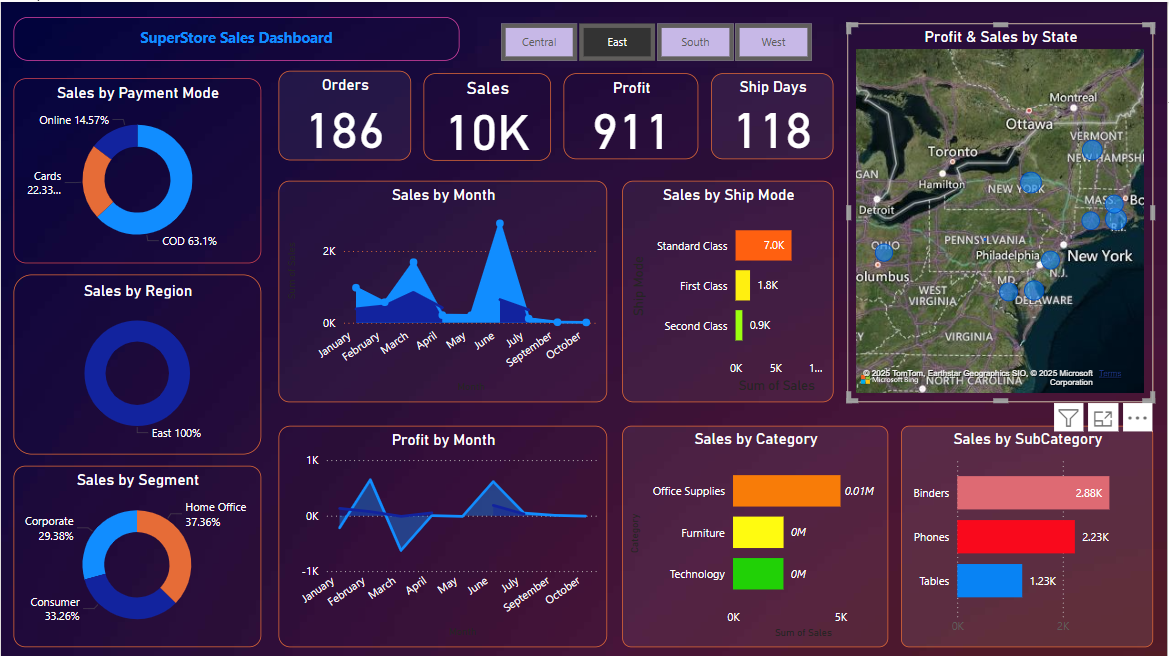

This screenshot's page, from the dashboard's own definition file:
{"tool":"powerbi","page":{"name":"Page 1","canvas":[1280,720],"ordinal":0},"visuals":[{"type":"textbox","box":[13.7,16.5,489.9,48],"z":0},{"type":"donutChart","title":"Sales by Payment Mode","fields":{"Category":["SuperStore_Sales_Dataset.Payment Mode"],"Y":["Sum(SuperStore_Sales_Dataset.Sales)"]},"box":[13.7,83.7,271.7,203.1],"z":1000},{"type":"donutChart","title":"Sales by Region","fields":{"Category":["SuperStore_Sales_Dataset.Region"],"Y":["Sum(SuperStore_Sales_Dataset.Sales)"]},"box":[13.7,299.1,271.7,197.6],"z":2000},{"type":"donutChart","title":"Sales by Segment","fields":{"Category":["SuperStore_Sales_Dataset.Segment"],"Y":["Sum(SuperStore_Sales_Dataset.Sales)"]},"box":[13.7,509.1,271.7,199],"z":3000},{"type":"card","title":"Sales","fields":{"Values":["Sum(SuperStore_Sales_Dataset.Sales)"]},"box":[463.8,78.2,140,96.1],"z":4000},{"type":"card","title":"Profit","fields":{"Values":["Sum(SuperStore_Sales_Dataset.Profit)"]},"box":[617.5,78.2,148.2,94.7],"z":5000},{"type":"lineChart","title":"Sales by Month","fields":{"Category":["SuperStore_Sales_Dataset.Order Date.Variation.Date Hierarchy.Month"],"Y":["Sum(SuperStore_Sales_Dataset.Sales)"],"Series":["SuperStore_Sales_Dataset.Order Date.Variation.Date Hierarchy.Year"]},"box":[304.6,196.2,360.9,242.9],"z":6000},{"type":"lineChart","title":"Profit by Month","fields":{"Category":["SuperStore_Sales_Dataset.Order Date.Variation.Date Hierarchy.Month"],"Y":["Sum(SuperStore_Sales_Dataset.Profit)"],"Series":["SuperStore_Sales_Dataset.Order Date.Variation.Date Hierarchy.Year"]},"box":[304.6,465.2,360.9,242.9],"z":7000},{"type":"clusteredBarChart","title":"Sales by Category","fields":{"Category":["SuperStore_Sales_Dataset.Category"],"Y":["Sum(SuperStore_Sales_Dataset.Sales)"]},"box":[682,465.2,292.3,242.9],"z":8000},{"type":"clusteredBarChart","title":"Sales by Ship Mode","fields":{"Category":["SuperStore_Sales_Dataset.Ship Mode"],"Y":["Sum(SuperStore_Sales_Dataset.Sales)"]},"box":[682,196.2,231.9,242.9],"z":9000},{"type":"clusteredBarChart","title":"Sales by SubCategory","fields":{"Category":["SuperStore_Sales_Dataset.Sub-Category"],"Y":["Sum(SuperStore_Sales_Dataset.Sales)"]},"box":[988,465.2,277.2,242.9],"z":10000},{"type":"slicer","fields":{"Values":["SuperStore_Sales_Dataset.Region"]},"box":[522.8,16.5,391.1,54.9],"z":11000},{"type":"card","title":"Ship Days","fields":{"Values":["Avg(SuperStore_Sales_Dataset.AverageDelivery)"]},"box":[779.4,78.2,134.5,94.7],"z":12000},{"type":"card","title":"Orders","fields":{"Values":["Sum(SuperStore_Sales_Dataset.Quantity)"]},"box":[304.6,75.5,145.5,98.8],"z":13000},{"type":"map","title":"Profit & Sales by State","fields":{"Category":["SuperStore_Sales_Dataset.State"],"Size":["Sum(SuperStore_Sales_Dataset.Profit)"]},"box":[929,23.3,336.2,415.8],"z":13001}]}

Visuals, with their boxes in screenshot pixels (x1, y1, x2, y2), scaled from the page's 1280x720 canvas onto the 1169x656 screenshot:
textbox: rect(13, 15, 460, 59)
"Sales by Payment Mode" donutChart: rect(13, 76, 261, 261)
"Sales by Region" donutChart: rect(13, 273, 261, 453)
"Sales by Segment" donutChart: rect(13, 464, 261, 645)
"Sales" card: rect(424, 71, 551, 159)
"Profit" card: rect(564, 71, 699, 158)
"Sales by Month" lineChart: rect(278, 179, 608, 400)
"Profit by Month" lineChart: rect(278, 424, 608, 645)
"Sales by Category" clusteredBarChart: rect(623, 424, 890, 645)
"Sales by Ship Mode" clusteredBarChart: rect(623, 179, 835, 400)
"Sales by SubCategory" clusteredBarChart: rect(902, 424, 1155, 645)
slicer - SuperStore_Sales_Dataset.Region: rect(477, 15, 835, 65)
"Ship Days" card: rect(712, 71, 835, 158)
"Orders" card: rect(278, 69, 411, 159)
"Profit & Sales by State" map: rect(848, 21, 1155, 400)
